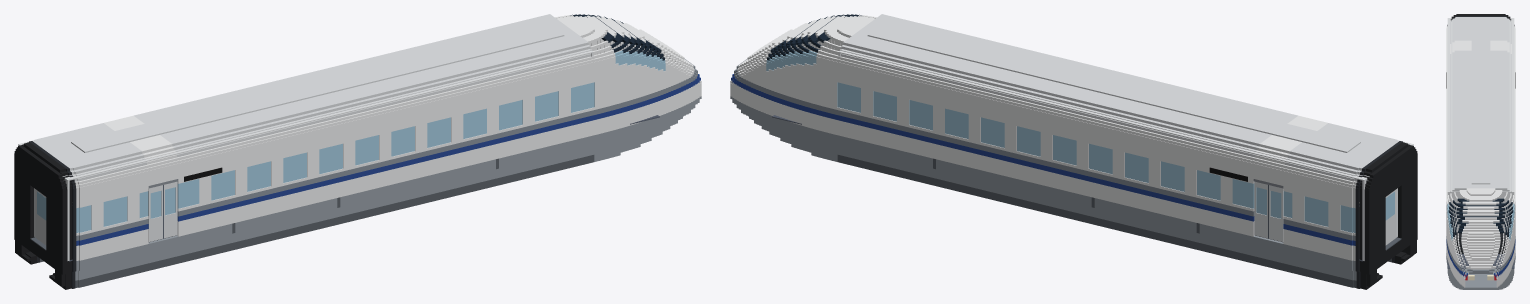
Rendered from transrapid_front.obj.
3 views of the same model, side by side, from view 1: azimuth 30°, elevation 25°; view 2: azimuth 150°, elevation 25°; view 3: azimuth 270°, elevation 25° (orthographic). The views are drawn at different scales.
Parts seen in each view (by area): view 1: SHELL, SHELL_roof, SHELL_diaphragm, SHELL_ceiling, EXTERNAL_DOOR_3_CG_DR1_TOGGLE_TL_-0.54_X, EXTERNAL_DOOR_4_CG_DR1_TOGGLE_TL_0.54_X, CONNECTING_DOOR_1_CG_CR_TOGGLE_TL_0.98_Z; view 2: SHELL, SHELL_roof, SHELL_diaphragm, SHELL_ceiling, EXTERNAL_DOOR_6_CG_DL1_TOGGLE_TL_-0.54_X, EXTERNAL_DOOR_7_CG_DL1_TOGGLE_TL_0.54_X, CONNECTING_DOOR_1_CG_CR_TOGGLE_TL_0.98_Z; view 3: SHELL, SHELL_roof, SHELL_ceiling, SHELL_cabwall, SHELL_desk, SHELL_floor, HEADLIGHT_1.
Part boxes in pixels (x1,y1,x2,y2): SHELL: [19, 14, 701, 289]; SHELL_roof: [71, 25, 564, 152]; SHELL_diaphragm: [14, 145, 66, 286]; SHELL_ceiling: [20, 49, 591, 180]; EXTERNAL_DOOR_3_CG_DR1_TOGGLE_TL_-0.54_X: [148, 185, 163, 241]; EXTERNAL_DOOR_4_CG_DR1_TOGGLE_TL_0.54_X: [163, 181, 177, 238]; CONNECTING_DOOR_1_CG_CR_TOGGLE_TL_0.98_Z: [35, 189, 46, 245]; SHELL: [730, 14, 1412, 289]; SHELL_roof: [867, 25, 1360, 152]; SHELL_diaphragm: [1365, 145, 1417, 286]; SHELL_ceiling: [840, 49, 1411, 180]; EXTERNAL_DOOR_6_CG_DL1_TOGGLE_TL_-0.54_X: [1268, 185, 1283, 241]; EXTERNAL_DOOR_7_CG_DL1_TOGGLE_TL_0.54_X: [1254, 181, 1268, 238]; CONNECTING_DOOR_1_CG_CR_TOGGLE_TL_0.98_Z: [1385, 189, 1396, 245]; SHELL: [1446, 14, 1515, 289]; SHELL_roof: [1471, 25, 1490, 184]; SHELL_ceiling: [1447, 18, 1514, 191]; SHELL_cabwall: [1447, 191, 1514, 232]; SHELL_desk: [1452, 232, 1509, 253]; SHELL_floor: [1447, 254, 1514, 268]; HEADLIGHT_1: [1468, 275, 1493, 280].
Size of the model in its own units: 27.16 by 4.67 by 3.72.
Materials: 1 (1 with a texture image).
